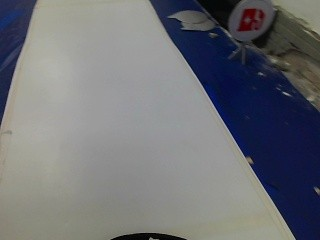battery: (224, 0, 275, 40)
